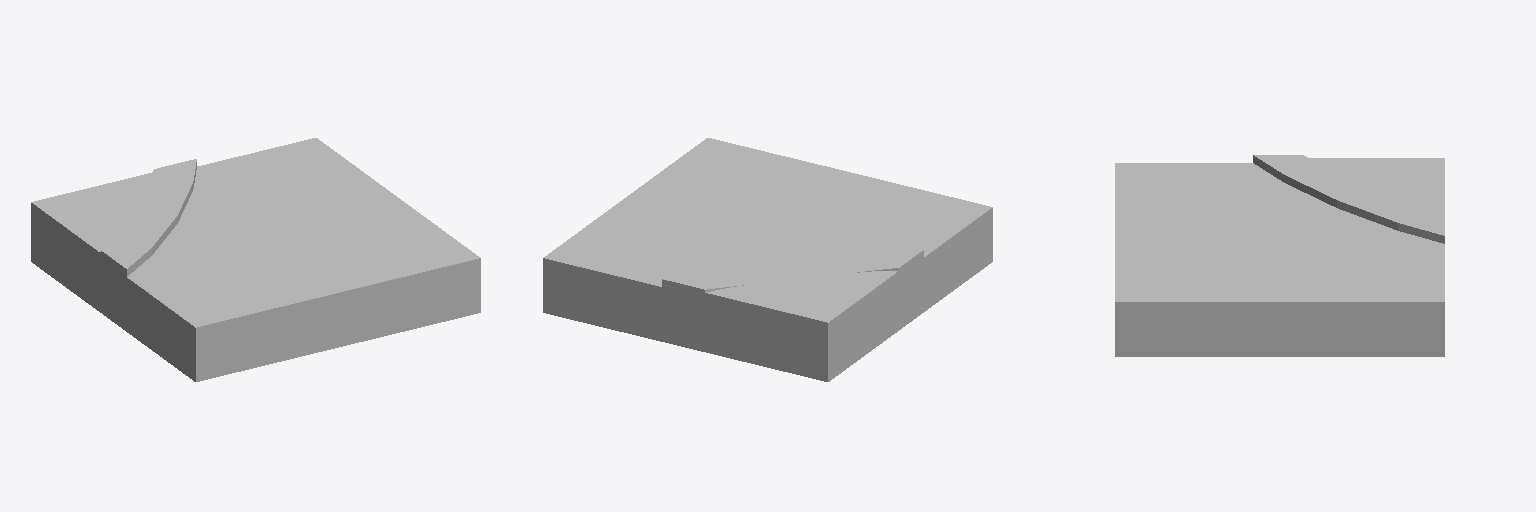
Rendered from roadTile_052.obj.
3 renders of one model, left to right at view 1: azimuth 30°, elevation 25°; view 2: azimuth 150°, elevation 25°; view 3: azimuth 270°, elevation 25°, orthographic.
Parts seen in each view (by area): view 1: Mesh1 Group1 Model; view 2: Mesh1 Group1 Model; view 3: Mesh1 Group1 Model.
Part boxes in pixels (x1,y1,x2,y2): Mesh1 Group1 Model: (31,138,480,381); Mesh1 Group1 Model: (543,138,992,381); Mesh1 Group1 Model: (1115,155,1444,356).
Bounding box in the file's own units: 3 × 0.63 × 3.